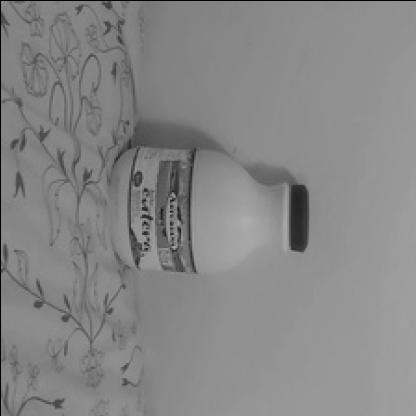plastic_bottles: (101, 135, 322, 277)
